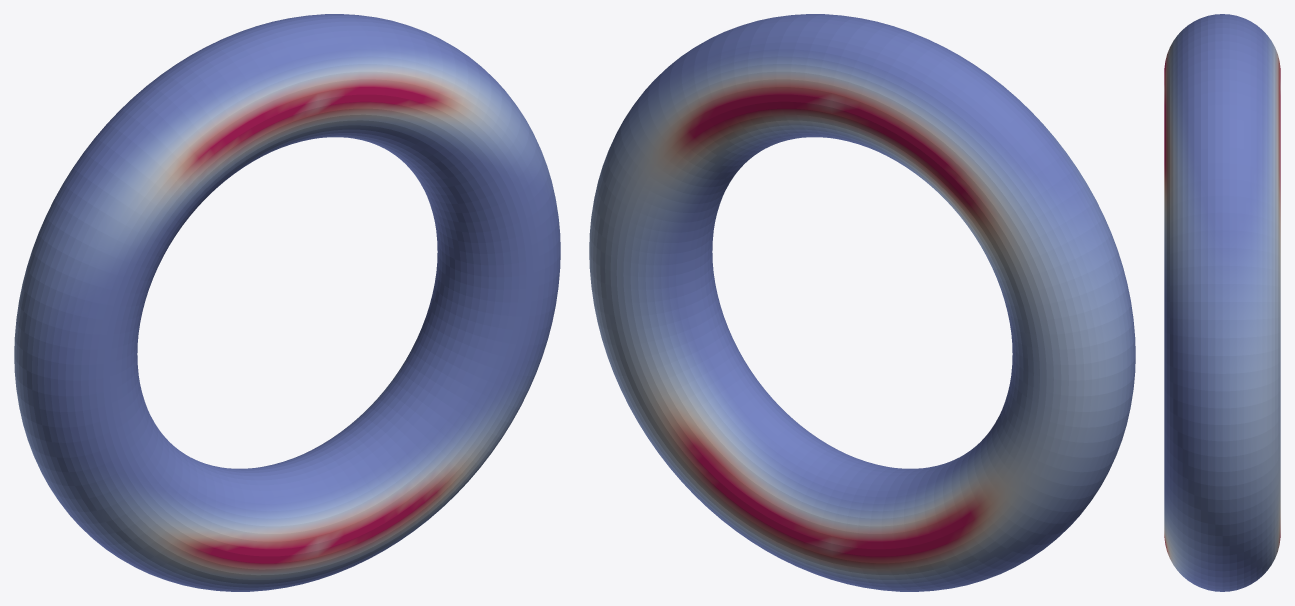
3 renders of one model, left to right at view 1: azimuth 30°, elevation 25°; view 2: azimuth 150°, elevation 25°; view 3: azimuth 270°, elevation 25°, orthographic. The views are drawn at different scales.
Parts seen in each view (by area): view 1: world; view 2: world; view 3: world.
Part boxes in pixels (bbox=[...]): world: bbox=[14, 14, 560, 591]; world: bbox=[589, 14, 1135, 591]; world: bbox=[1164, 14, 1280, 591].
Size of the model in its own units: 19.2 by 19.2 by 3.86.
